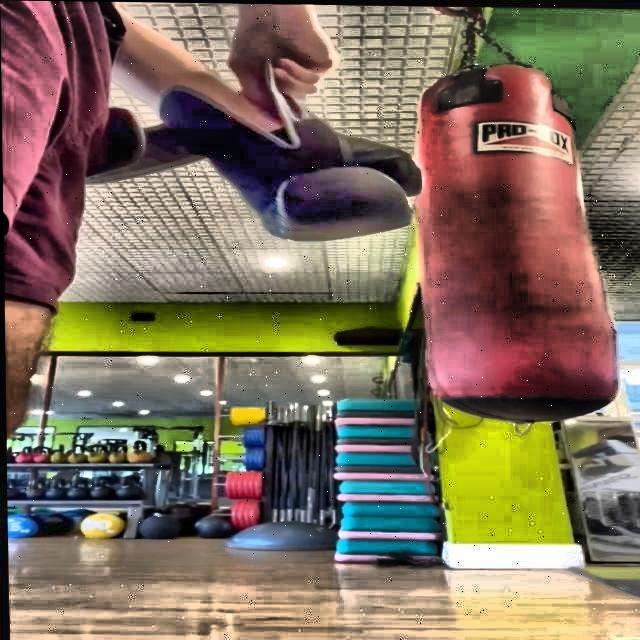boxing-bag: (420, 5, 615, 425)
